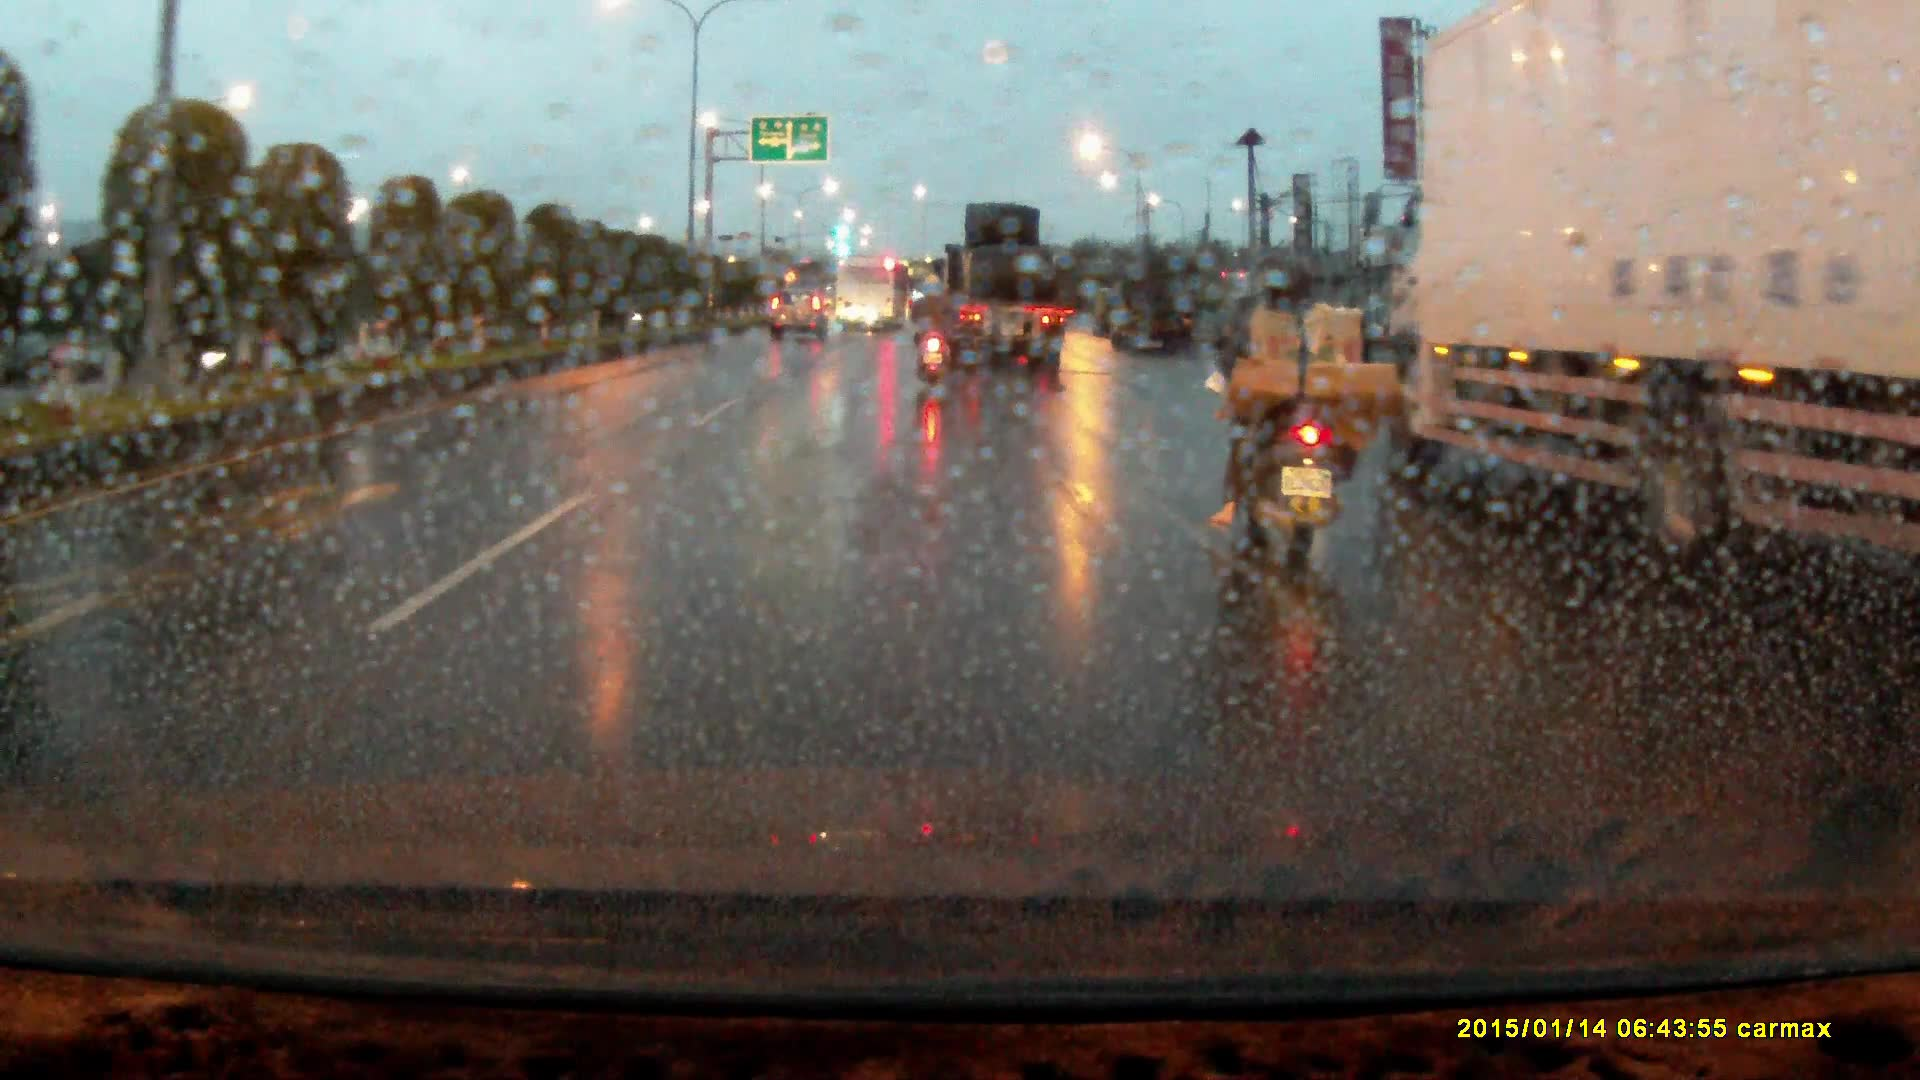rider: (1203, 253, 1406, 584), (911, 284, 955, 394)
vehicle: (1382, 1, 1920, 566), (922, 201, 1063, 369), (1114, 261, 1197, 356), (836, 257, 907, 331), (770, 290, 828, 341), (1091, 285, 1126, 334)
